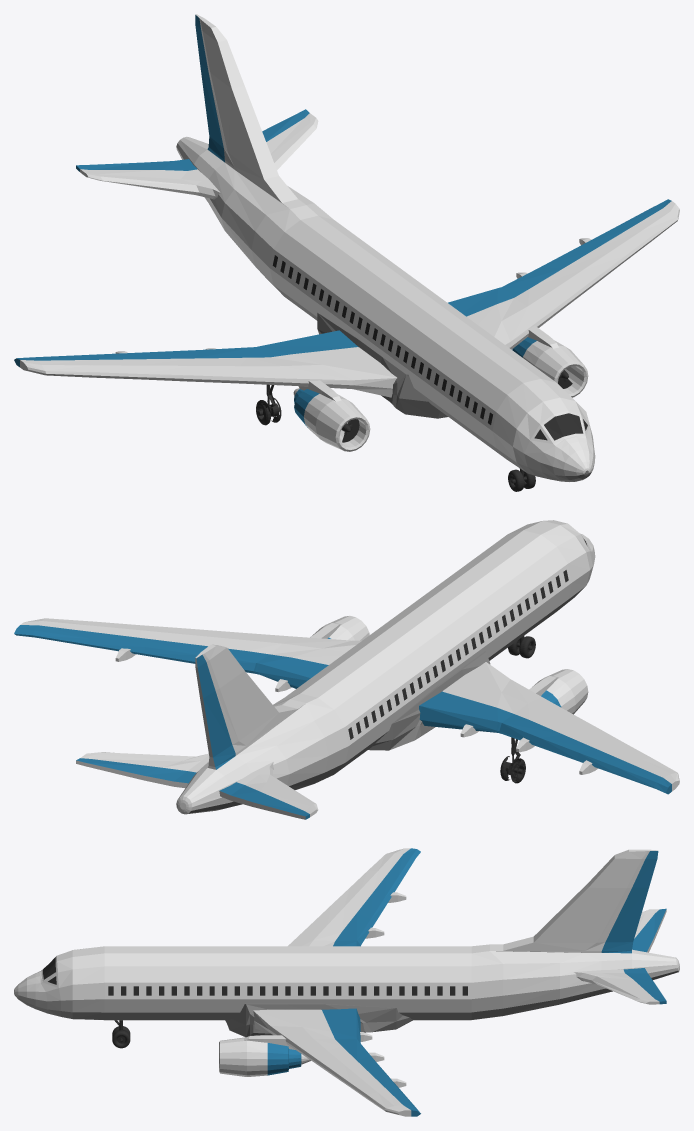
File: airplane.glb
3 renders of one model, top to bottom at view 1: azimuth 30°, elevation 25°; view 2: azimuth 150°, elevation 25°; view 3: azimuth 270°, elevation 25°, orthographic. The views are drawn at different scales.
Parts seen in each view (by area): view 1: Plane; view 2: Plane; view 3: Plane.
Boxes of the visible parts, bbox=[...] form: Plane: bbox=[14, 14, 679, 491]; Plane: bbox=[14, 520, 679, 819]; Plane: bbox=[14, 848, 679, 1116].
Bounding box in the file's own units: 88.62 × 30.76 × 95.22.
Materials: 1 (1 with a texture image).
